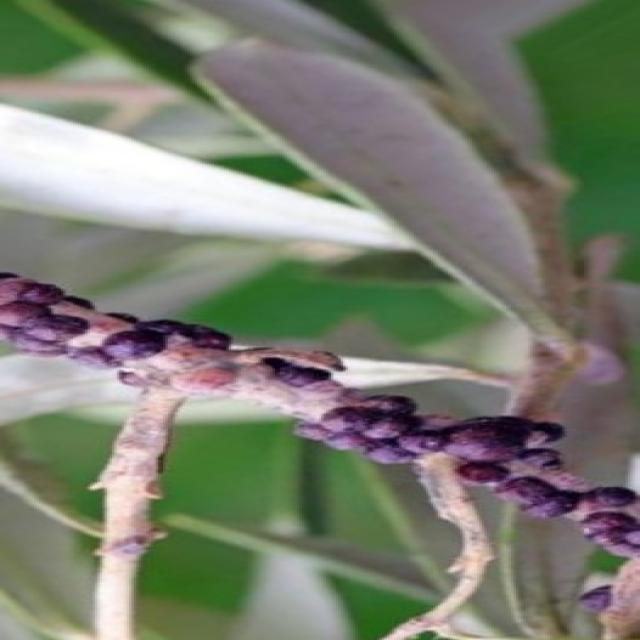Black Scale: (446, 414, 638, 557), (0, 272, 238, 385), (294, 394, 457, 463), (263, 358, 332, 389)
